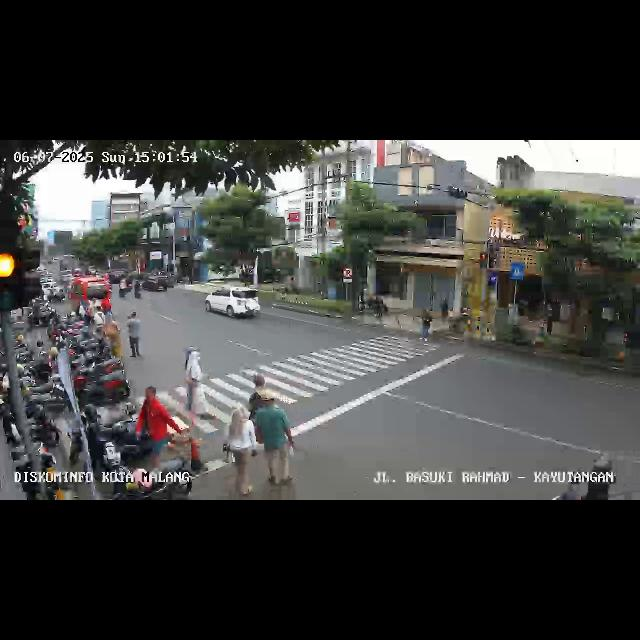car: (204, 286, 262, 322), (70, 277, 112, 315), (142, 274, 170, 294)
motorcycle: (118, 276, 130, 298), (132, 277, 142, 299)
person: (256, 394, 296, 496), (135, 387, 181, 467), (226, 406, 256, 500), (182, 348, 214, 420), (126, 310, 144, 362), (248, 372, 266, 420), (108, 321, 124, 359), (421, 307, 432, 341)
